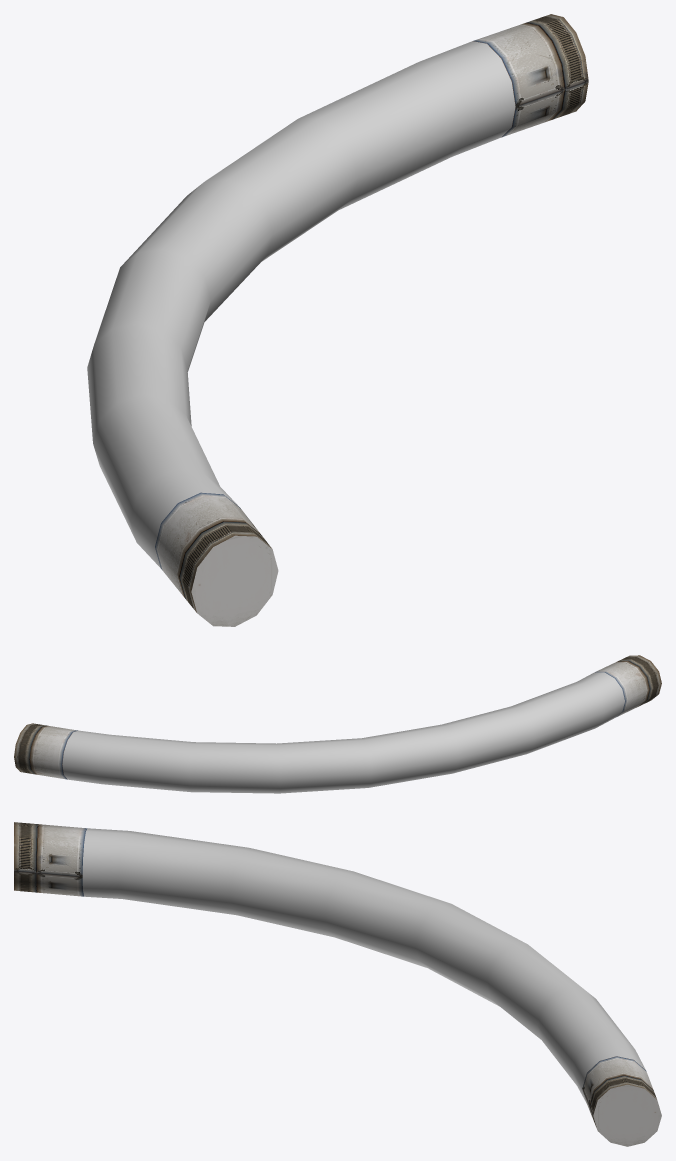
Rendered from scifi_pipe_small_curve2_1.FBX.
The picture shows the model from 3 angles, top to bottom: view 1: azimuth 30°, elevation 25°; view 2: azimuth 150°, elevation 25°; view 3: azimuth 270°, elevation 25°; orthographic projection. The views are drawn at different scales.
Parts seen in each view (by area): view 1: Cylinder032; view 2: Cylinder032; view 3: Cylinder032.
Boxes of the visible parts, box(x1,y1,x2,y2) form: Cylinder032: box(87, 14, 588, 626); Cylinder032: box(14, 655, 661, 793); Cylinder032: box(14, 822, 661, 1146).
Bounding box in the file's own units: 241 × 25.62 × 241.
